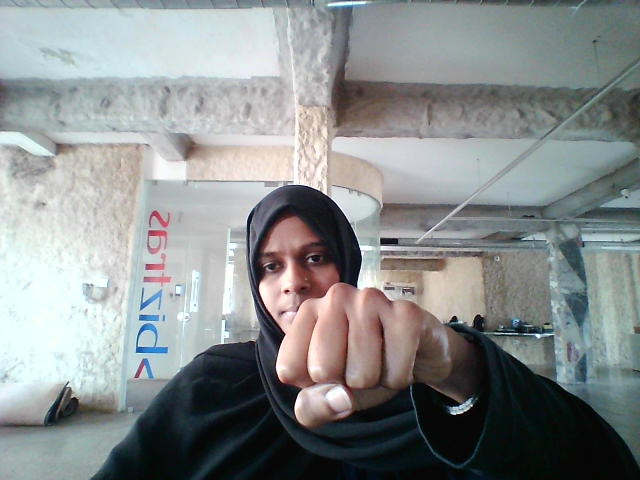YES: (267, 280, 453, 432)
